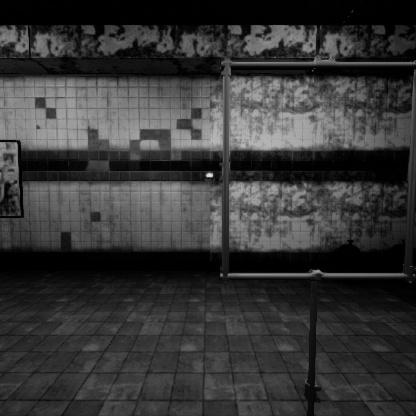gate: (222, 133, 416, 354)
